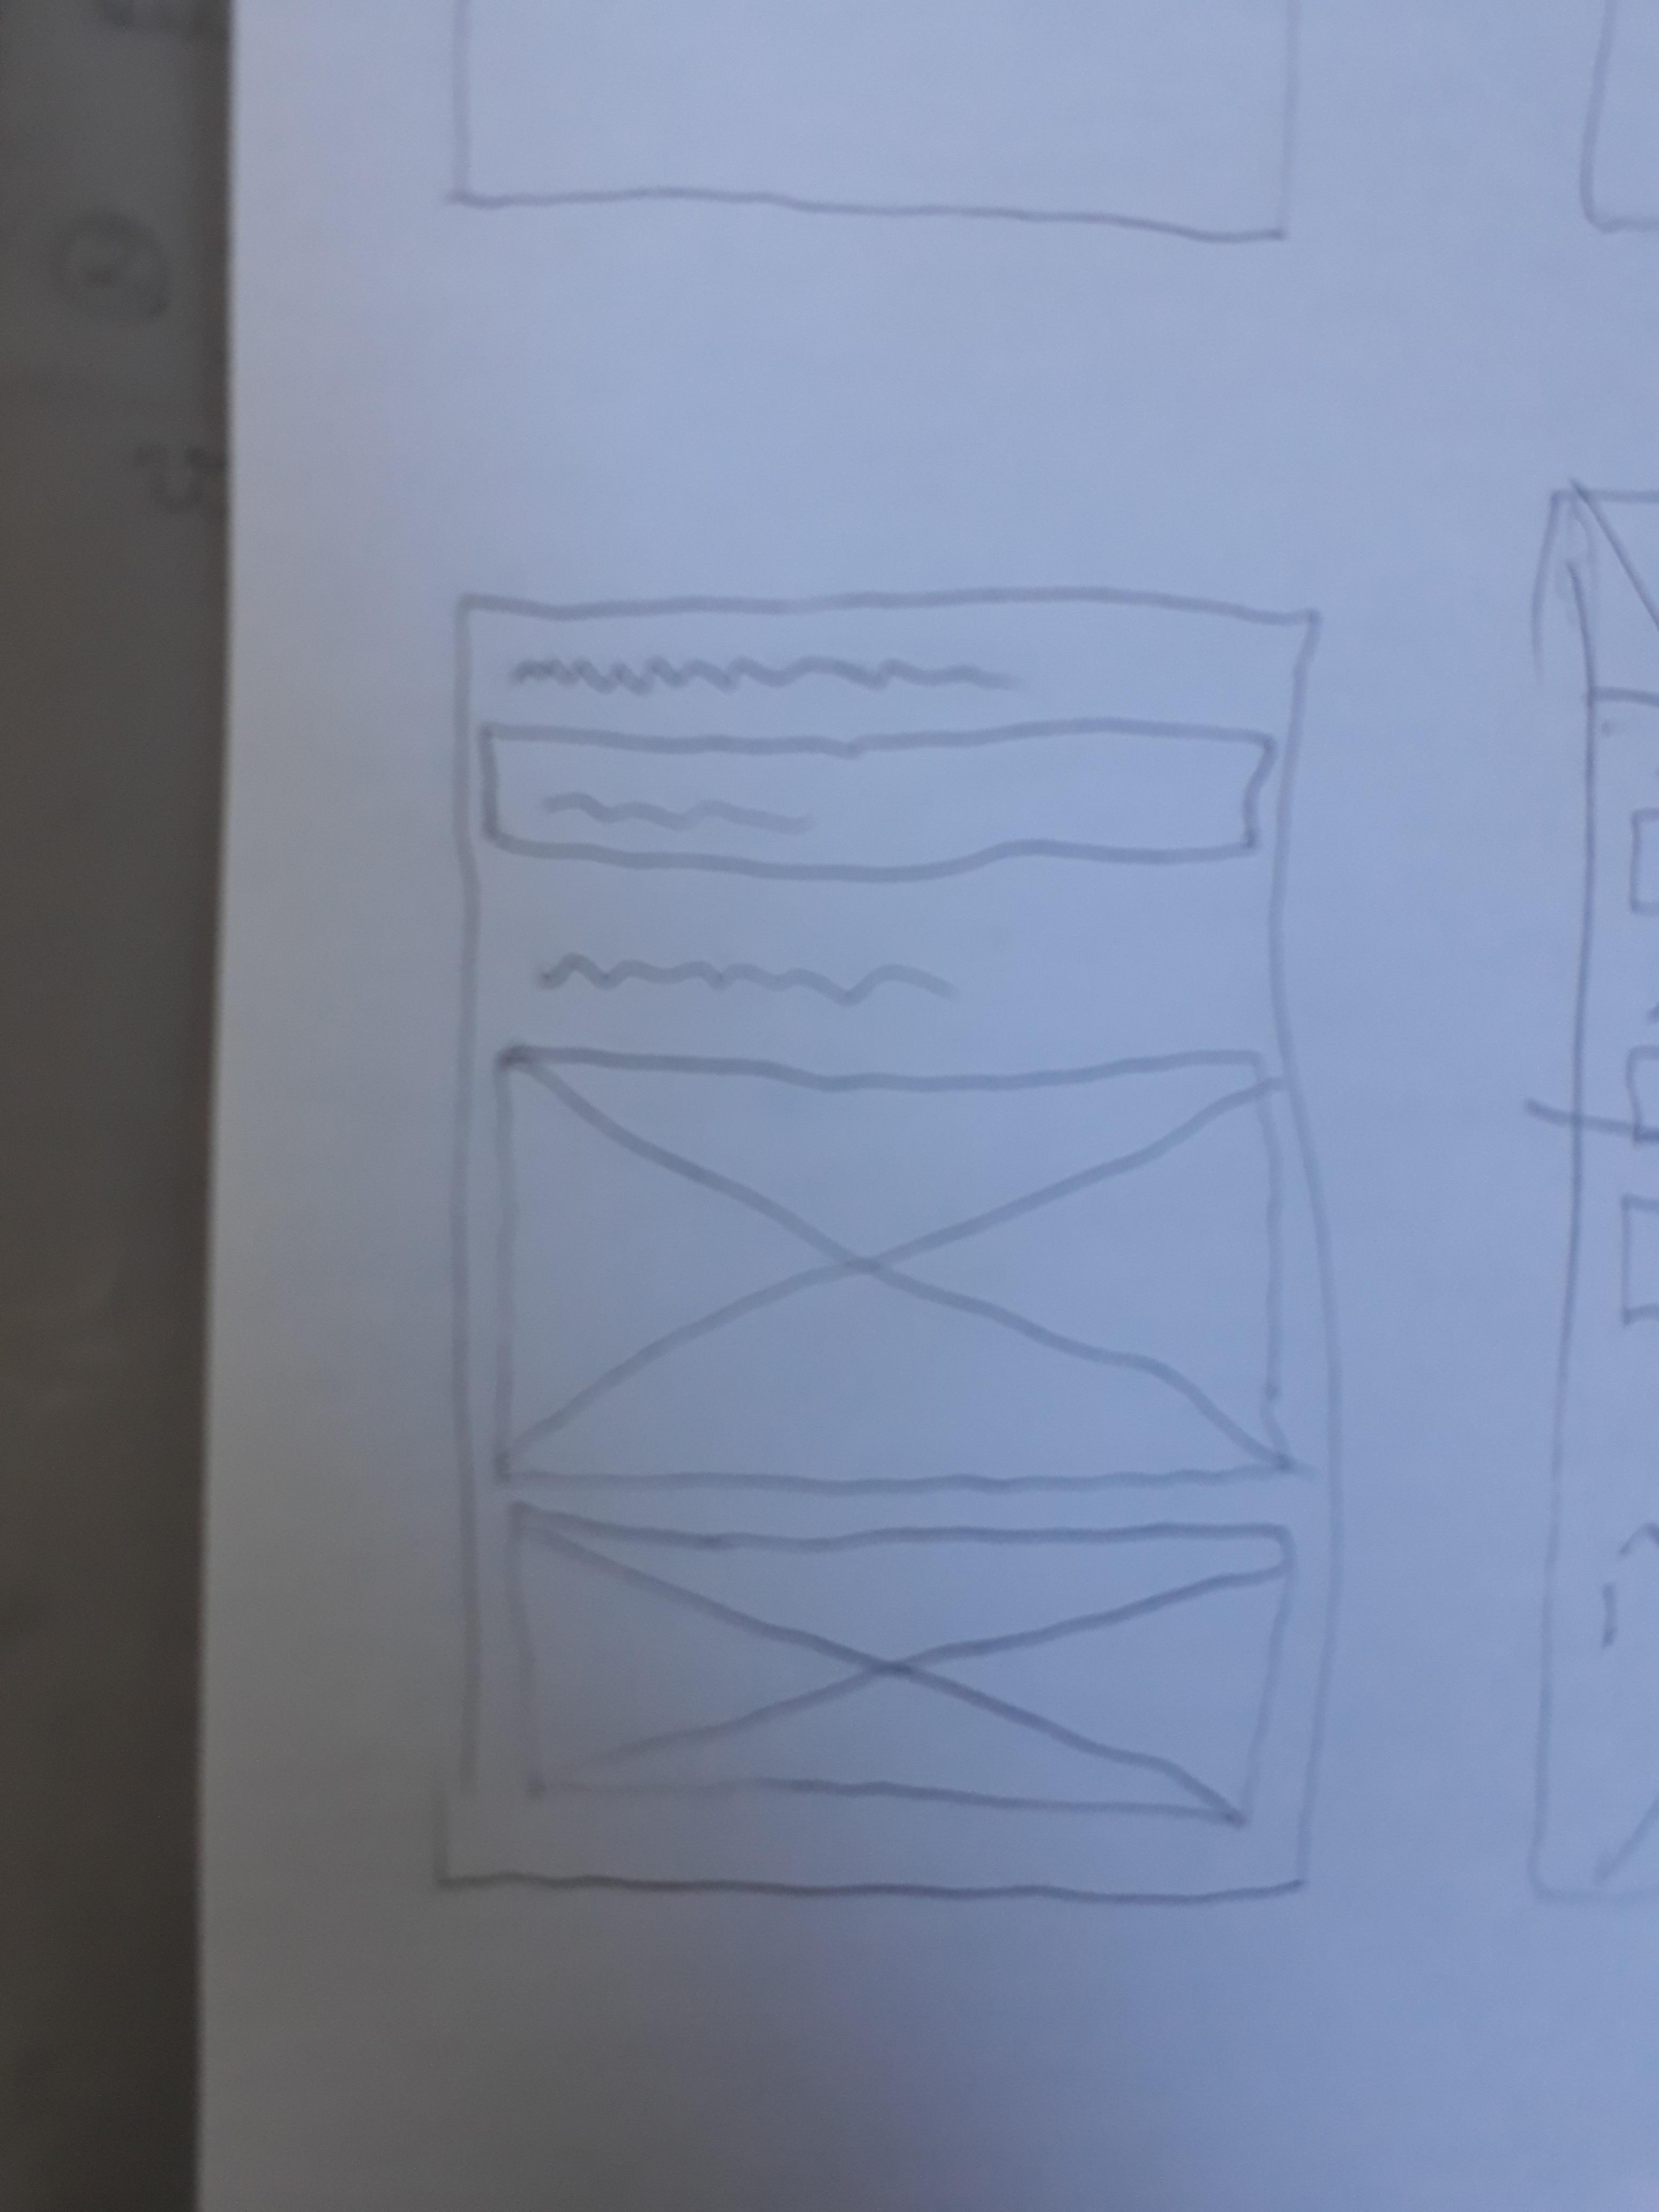Image: (495, 1047, 1288, 1487), (505, 1501, 1295, 1829)
Label: (537, 948, 958, 1012), (509, 651, 1023, 702)
Screen: (453, 592, 1324, 1905)
TextBox: (483, 728, 1274, 874)
